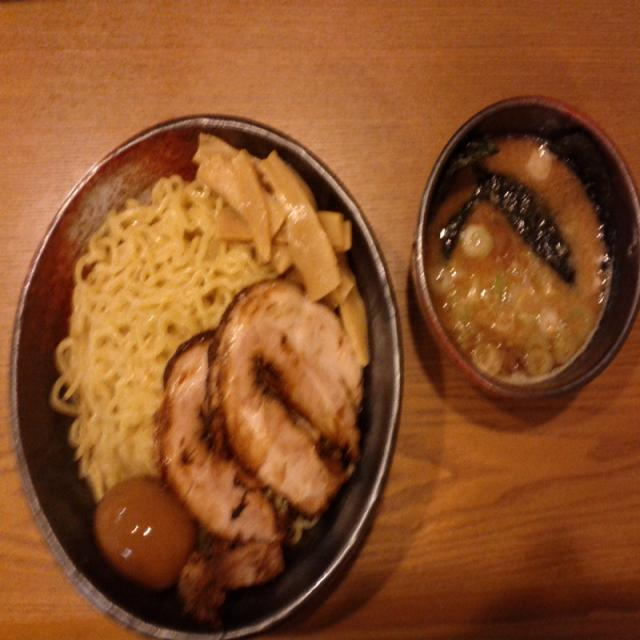面条主食: (0, 97, 401, 640)
